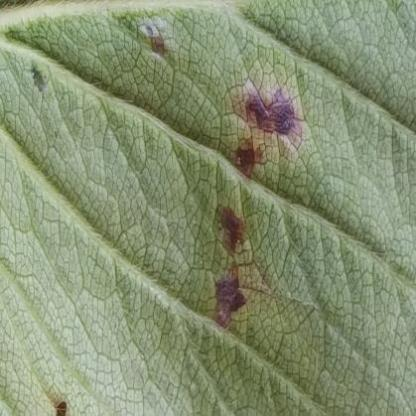Strawberry_Angular_LeafSpot: (22, 14, 320, 342)
